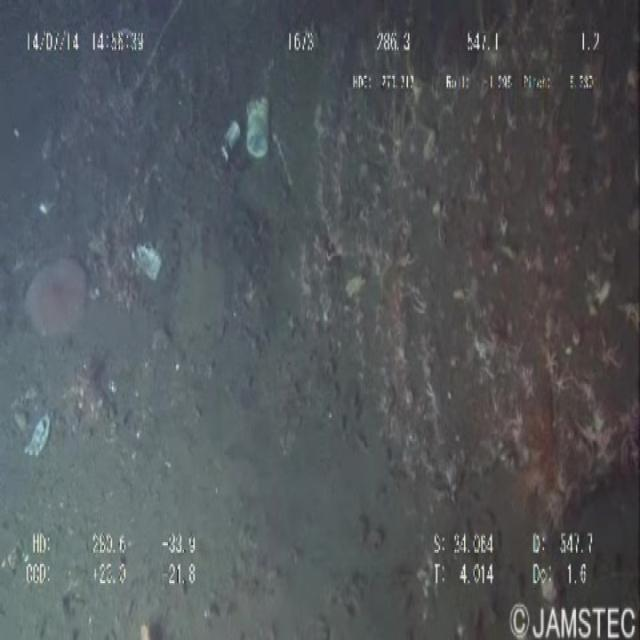Glass: (215, 105, 244, 167)
Litter: (127, 221, 166, 293), (20, 398, 56, 468)
Plastic: (240, 76, 285, 172)
